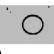no answer: (20, 14, 46, 37)
